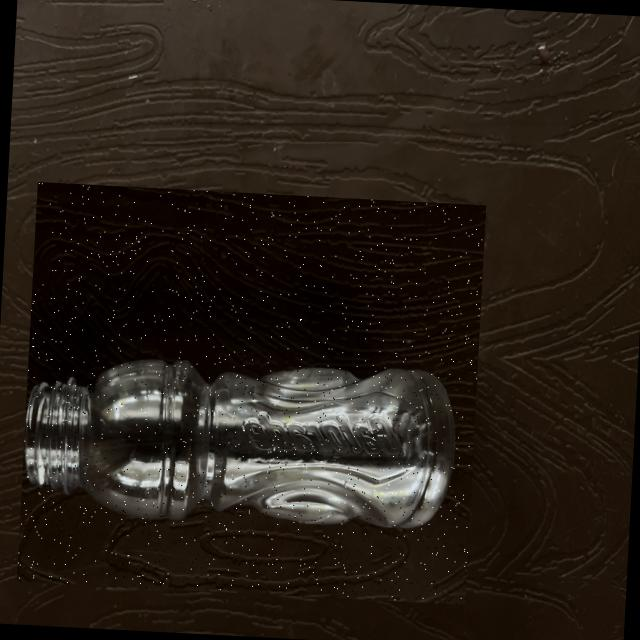PET_ClearBottle: (16, 182, 485, 605)
